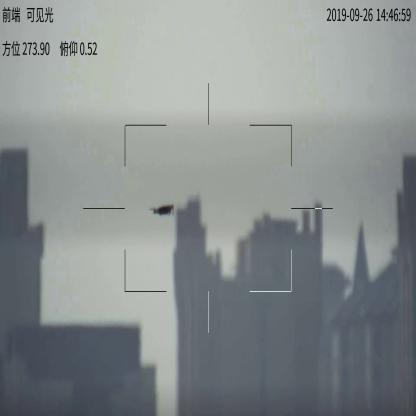uav: (148, 202, 178, 221)
